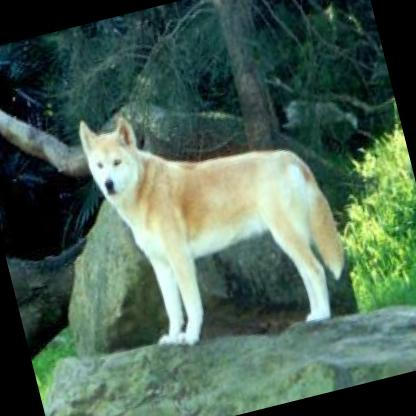dingo: (71, 62, 352, 364)
